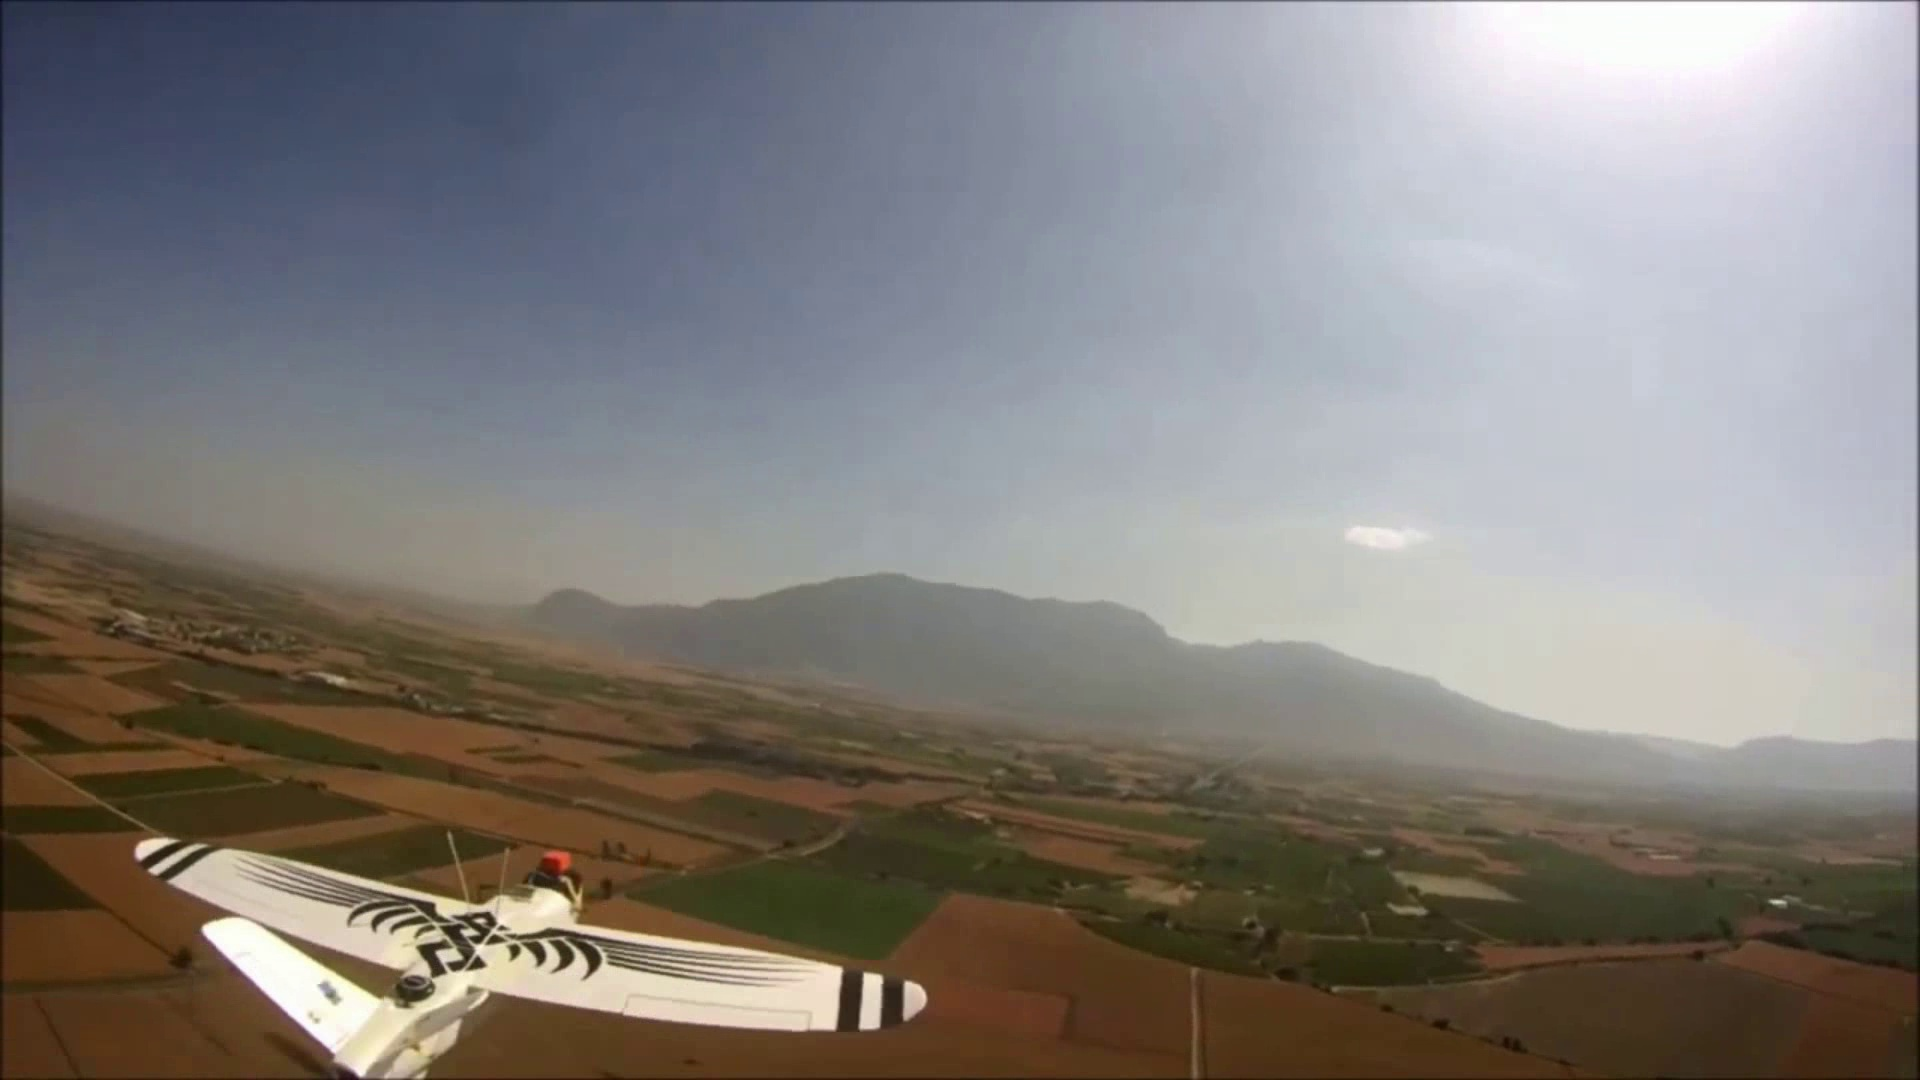airplane: (132, 831, 928, 1075)
